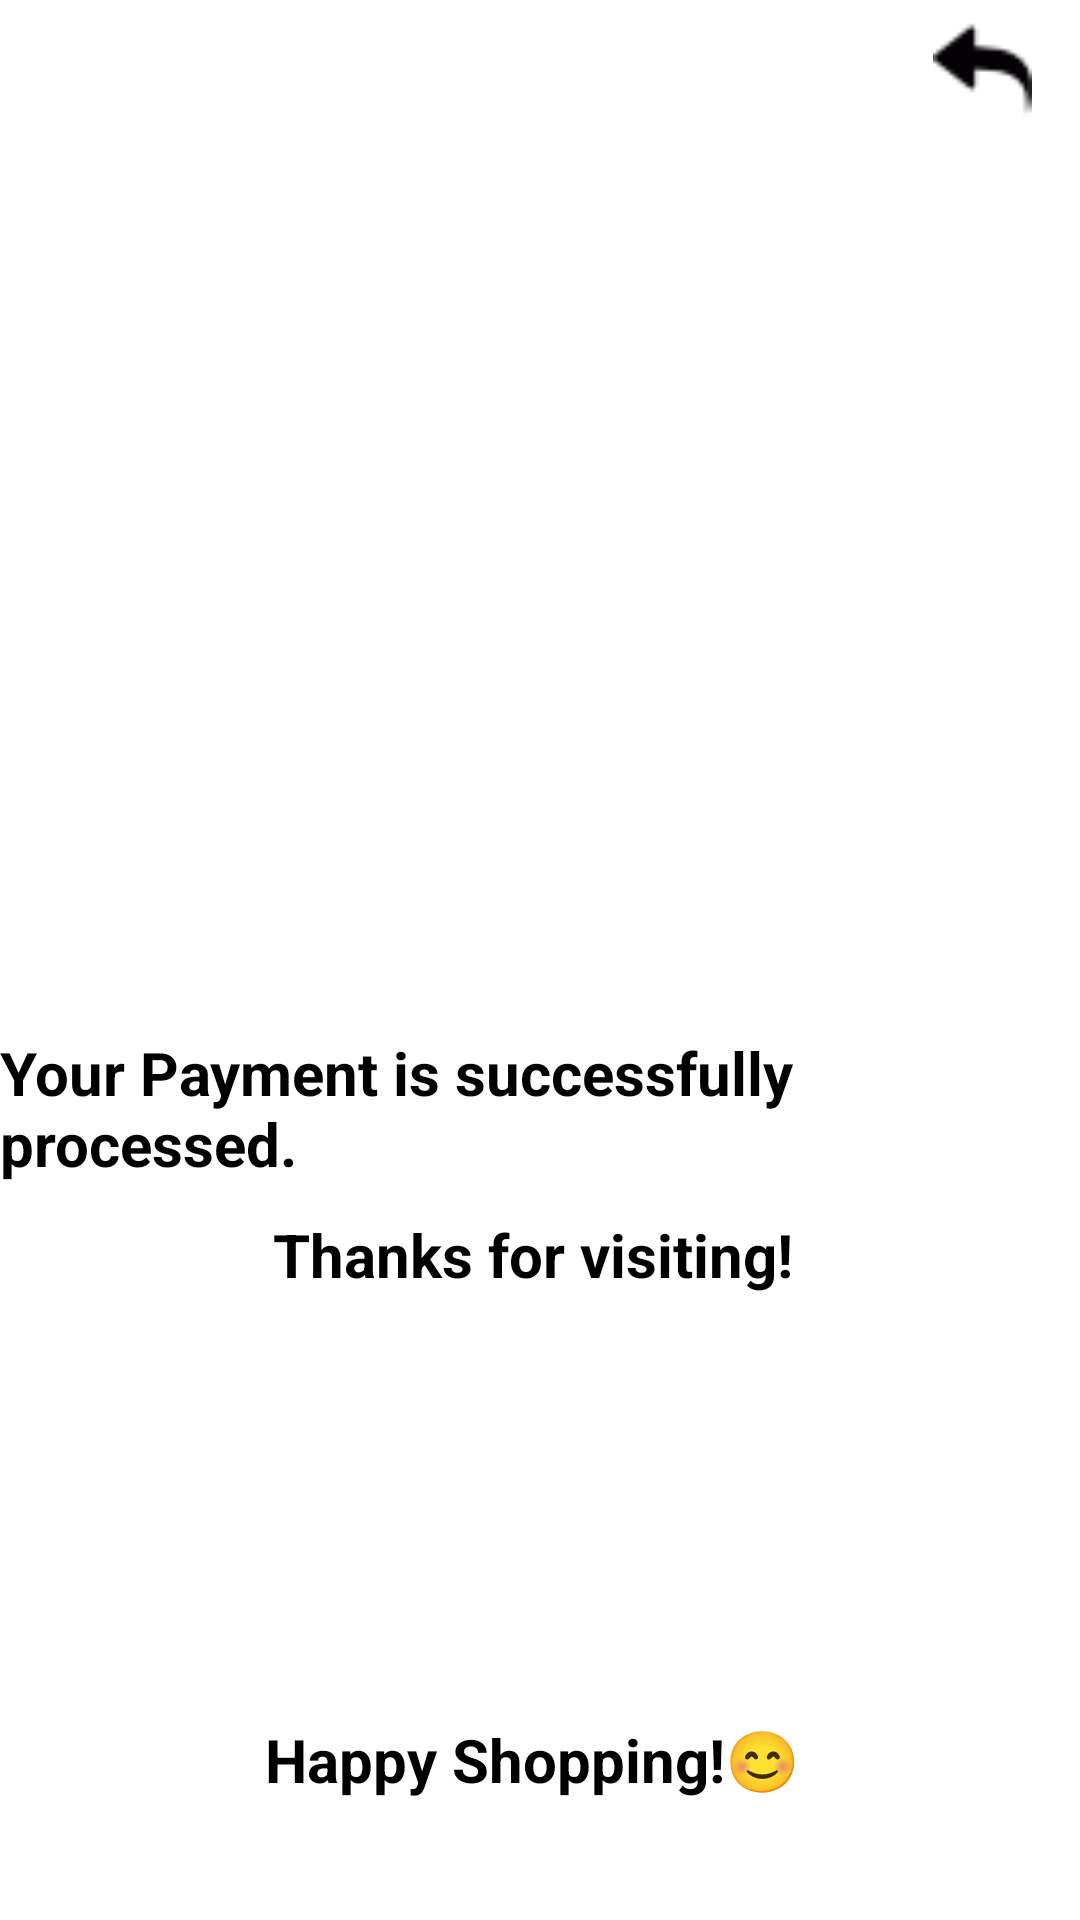

Locate icon controls on the screen. Image size 1080 × 1920, boxes as rect(x1, y1, x2, y2).
back: rect(933, 24, 1032, 112)
